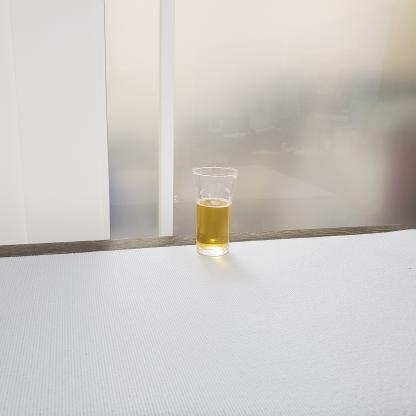glass: (188, 158, 252, 269)
